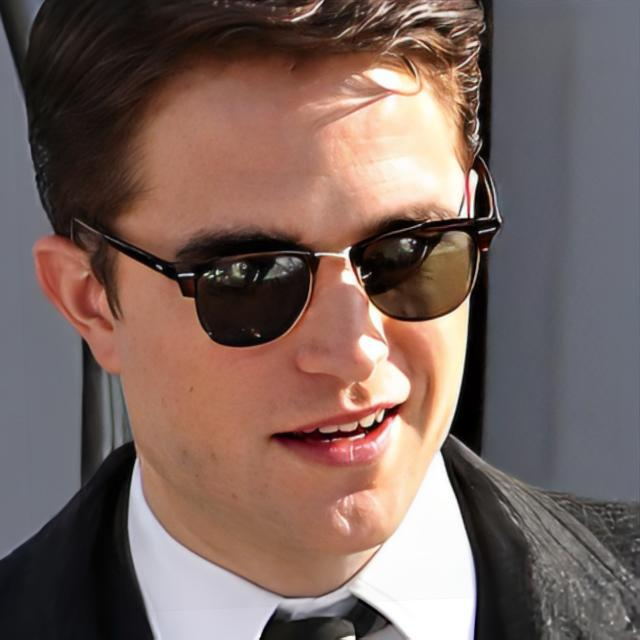content: (114, 54, 474, 558)
